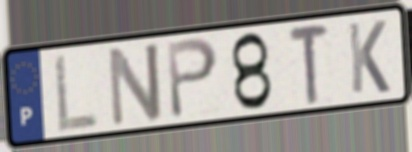8: (229, 30, 274, 113)
K: (345, 18, 392, 97)
L: (52, 51, 101, 135)
N: (106, 39, 165, 130)
P: (164, 34, 221, 122)
T: (286, 22, 332, 107)
